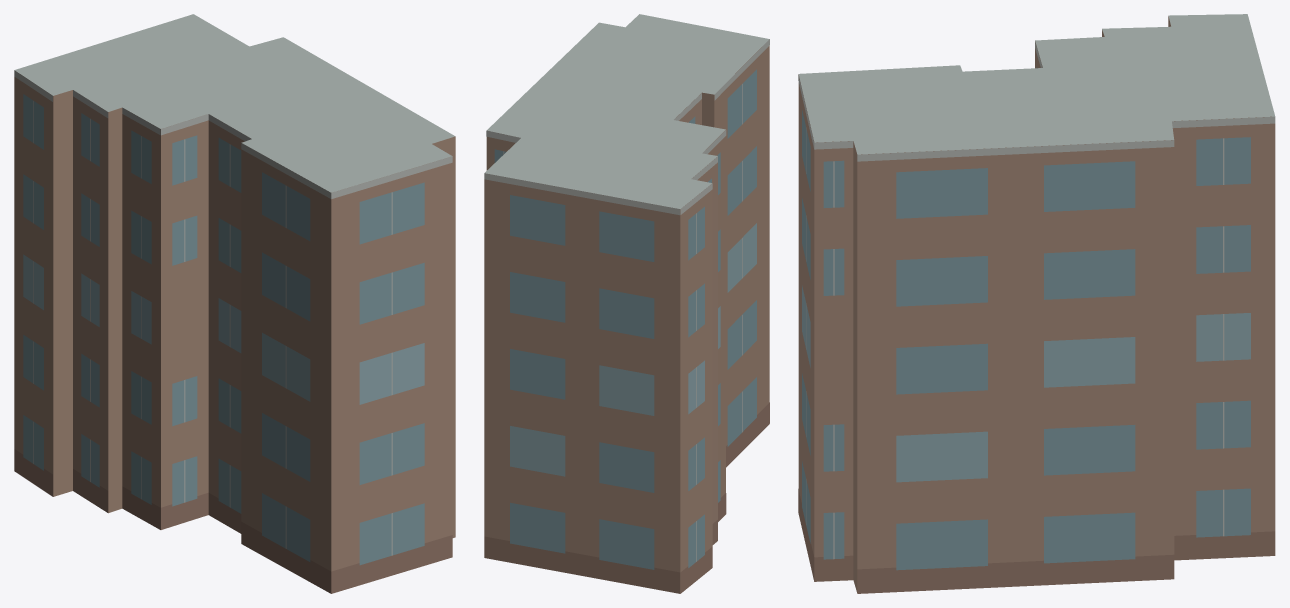
The model's file is survey-upis-32643736.glb.
3 views of the same model, side by side, from view 1: azimuth 30°, elevation 25°; view 2: azimuth 150°, elevation 25°; view 3: azimuth 270°, elevation 25° (orthographic). The views are drawn at different scales.
Parts seen in each view (by area): view 1: survey-upis-32643736.tmp; view 2: survey-upis-32643736.tmp; view 3: survey-upis-32643736.tmp.
Boxes of the visible parts, <box> form: survey-upis-32643736.tmp: <box>14,14,455,593</box>; survey-upis-32643736.tmp: <box>484,14,769,593</box>; survey-upis-32643736.tmp: <box>798,14,1275,593</box>.
Bounding box in the file's own units: 10.48 × 15.25 × 15.01.
